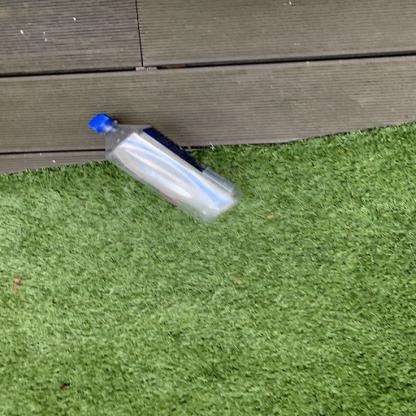trash: (87, 114, 254, 230)
